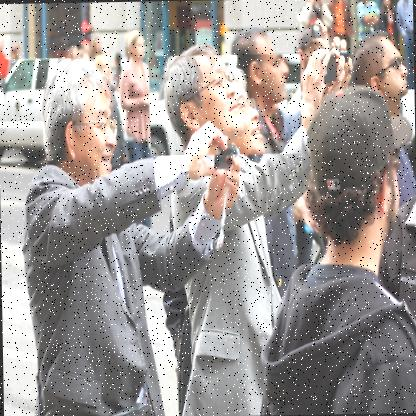Car: (148, 53, 301, 156), (0, 58, 74, 163), (398, 87, 415, 188)
